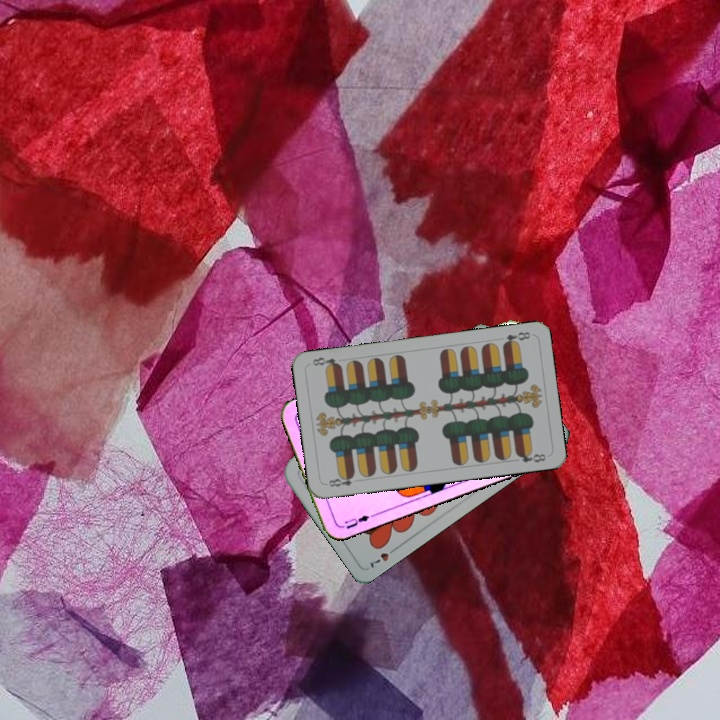E8: (498, 328, 533, 349), (324, 470, 357, 489)
EU: (337, 511, 372, 532)
H7: (365, 543, 400, 571)
